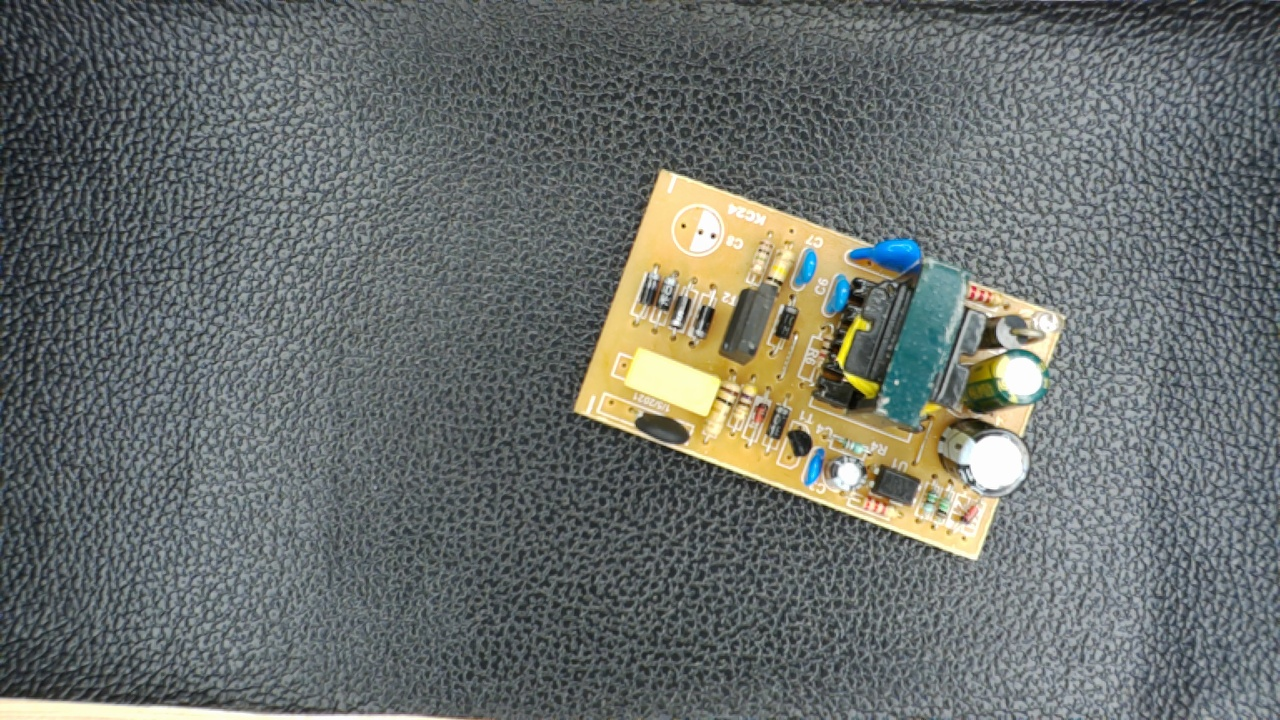fuse: (618, 401, 696, 447)
mov: (845, 234, 926, 275)
optocoupler: (864, 461, 923, 510)
